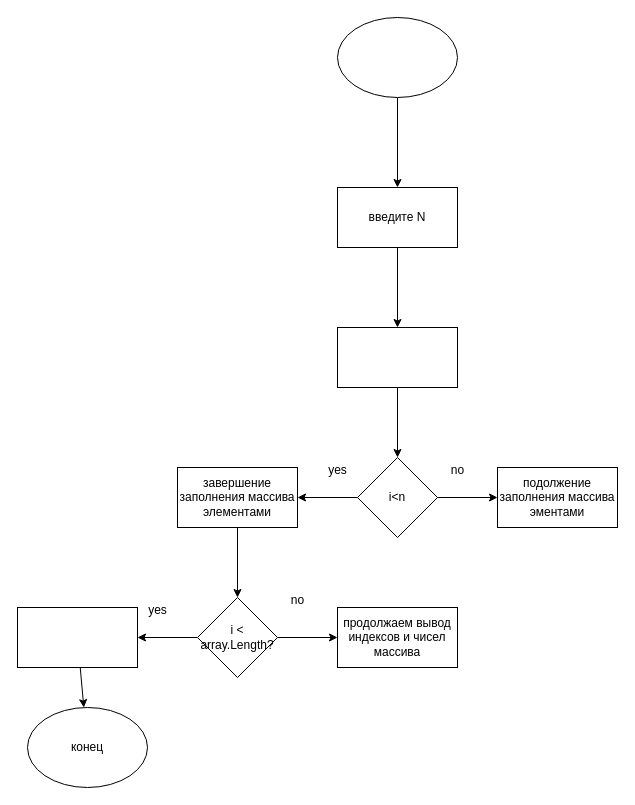
Image size: 635x805. Some labels were removed from this diagram. The shapes that lost their labels are listed below. From the top down, each one's box as (x1, y1, x2, y2) in pixels, then its label:
(336, 16, 458, 98): начало
(336, 326, 458, 388): инициализация переменной массива
(16, 606, 138, 668): завершение вывода чисел массива
